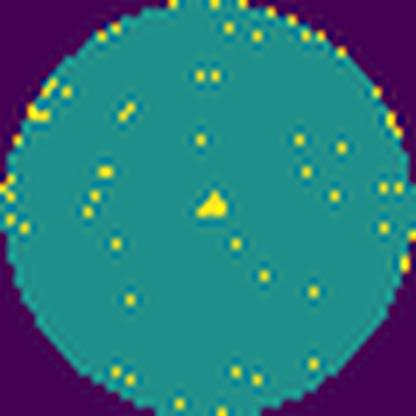Center: (193, 187, 231, 221)
